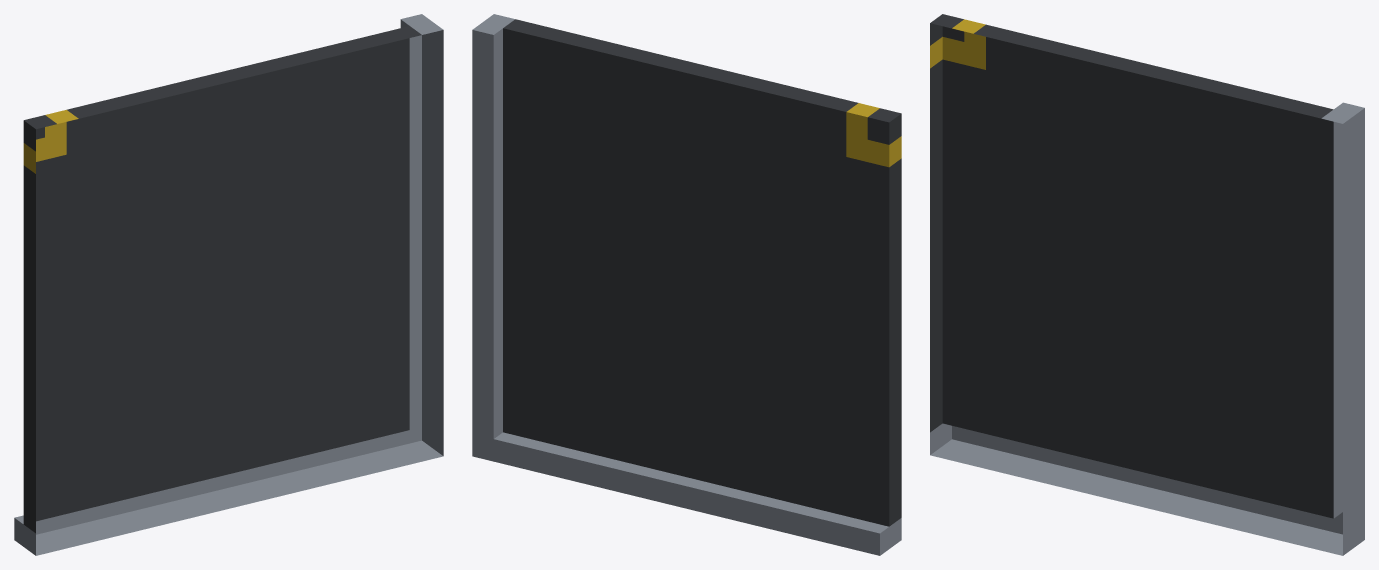
Rendered from SM_RoadBig_TurnOutside.FBX.
3 renders of one model, left to right at view 1: azimuth 30°, elevation 25°; view 2: azimuth 150°, elevation 25°; view 3: azimuth 330°, elevation 25°, orthographic.
Parts seen in each view (by area): view 1: SM_RoadBig_TurnOutside; view 2: SM_RoadBig_TurnOutside; view 3: SM_RoadBig_TurnOutside.
Part boxes in pixels (bbox=[...]): SM_RoadBig_TurnOutside: bbox=[14, 14, 443, 555]; SM_RoadBig_TurnOutside: bbox=[472, 14, 901, 555]; SM_RoadBig_TurnOutside: bbox=[930, 14, 1364, 555].
Size of the model in its own units: 38 by 3.5 by 38.01.
